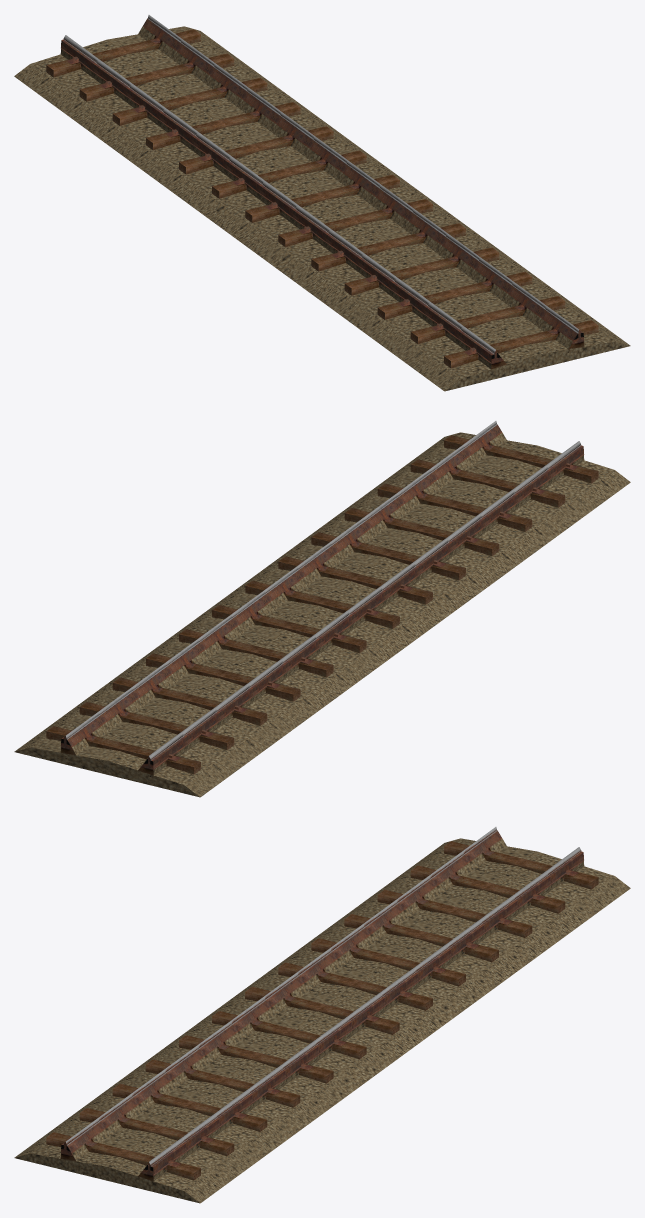
Rendered from rail_1x4_LODs.fbx.
The picture shows the model from 3 angles, top to bottom: view 1: azimuth 30°, elevation 25°; view 2: azimuth 150°, elevation 25°; view 3: azimuth 330°, elevation 25°; orthographic projection.
Parts seen in each view (by area): view 1: Rail_1x4_LOD1, Rail_1x4_LOD2; view 2: Rail_1x4_LOD1, Rail_1x4_LOD2; view 3: Rail_1x4_LOD1, Rail_1x4_LOD2.
Boxes of the visible parts, bbox=[...] form: Rail_1x4_LOD1: bbox=[14, 15, 617, 389]; Rail_1x4_LOD2: bbox=[14, 18, 630, 391]; Rail_1x4_LOD1: bbox=[14, 421, 629, 797]; Rail_1x4_LOD2: bbox=[15, 424, 630, 796]; Rail_1x4_LOD1: bbox=[25, 827, 630, 1202]; Rail_1x4_LOD2: bbox=[14, 830, 630, 1203].
Bounding box in the file's own units: 1 × 0.1486 × 4.
2 materials, 2 textured.
